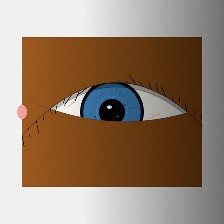pinguecula_lesion: (36, 107, 71, 135)
